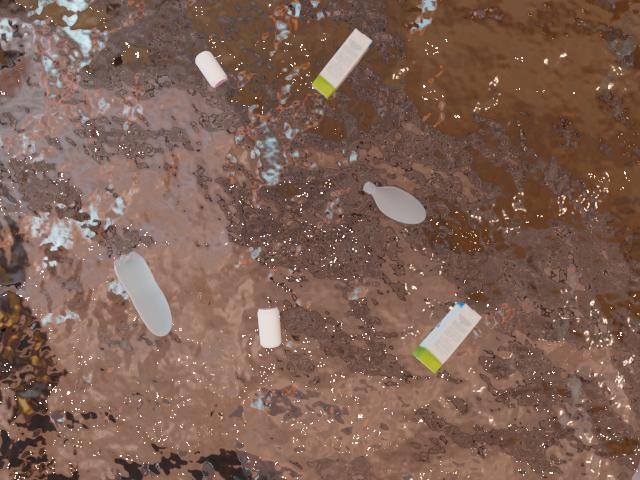Metal: (179, 49, 258, 94), (249, 295, 291, 360)
Plastic: (97, 236, 193, 349), (355, 164, 427, 242)
Trash: (391, 289, 500, 376), (305, 27, 384, 109)
